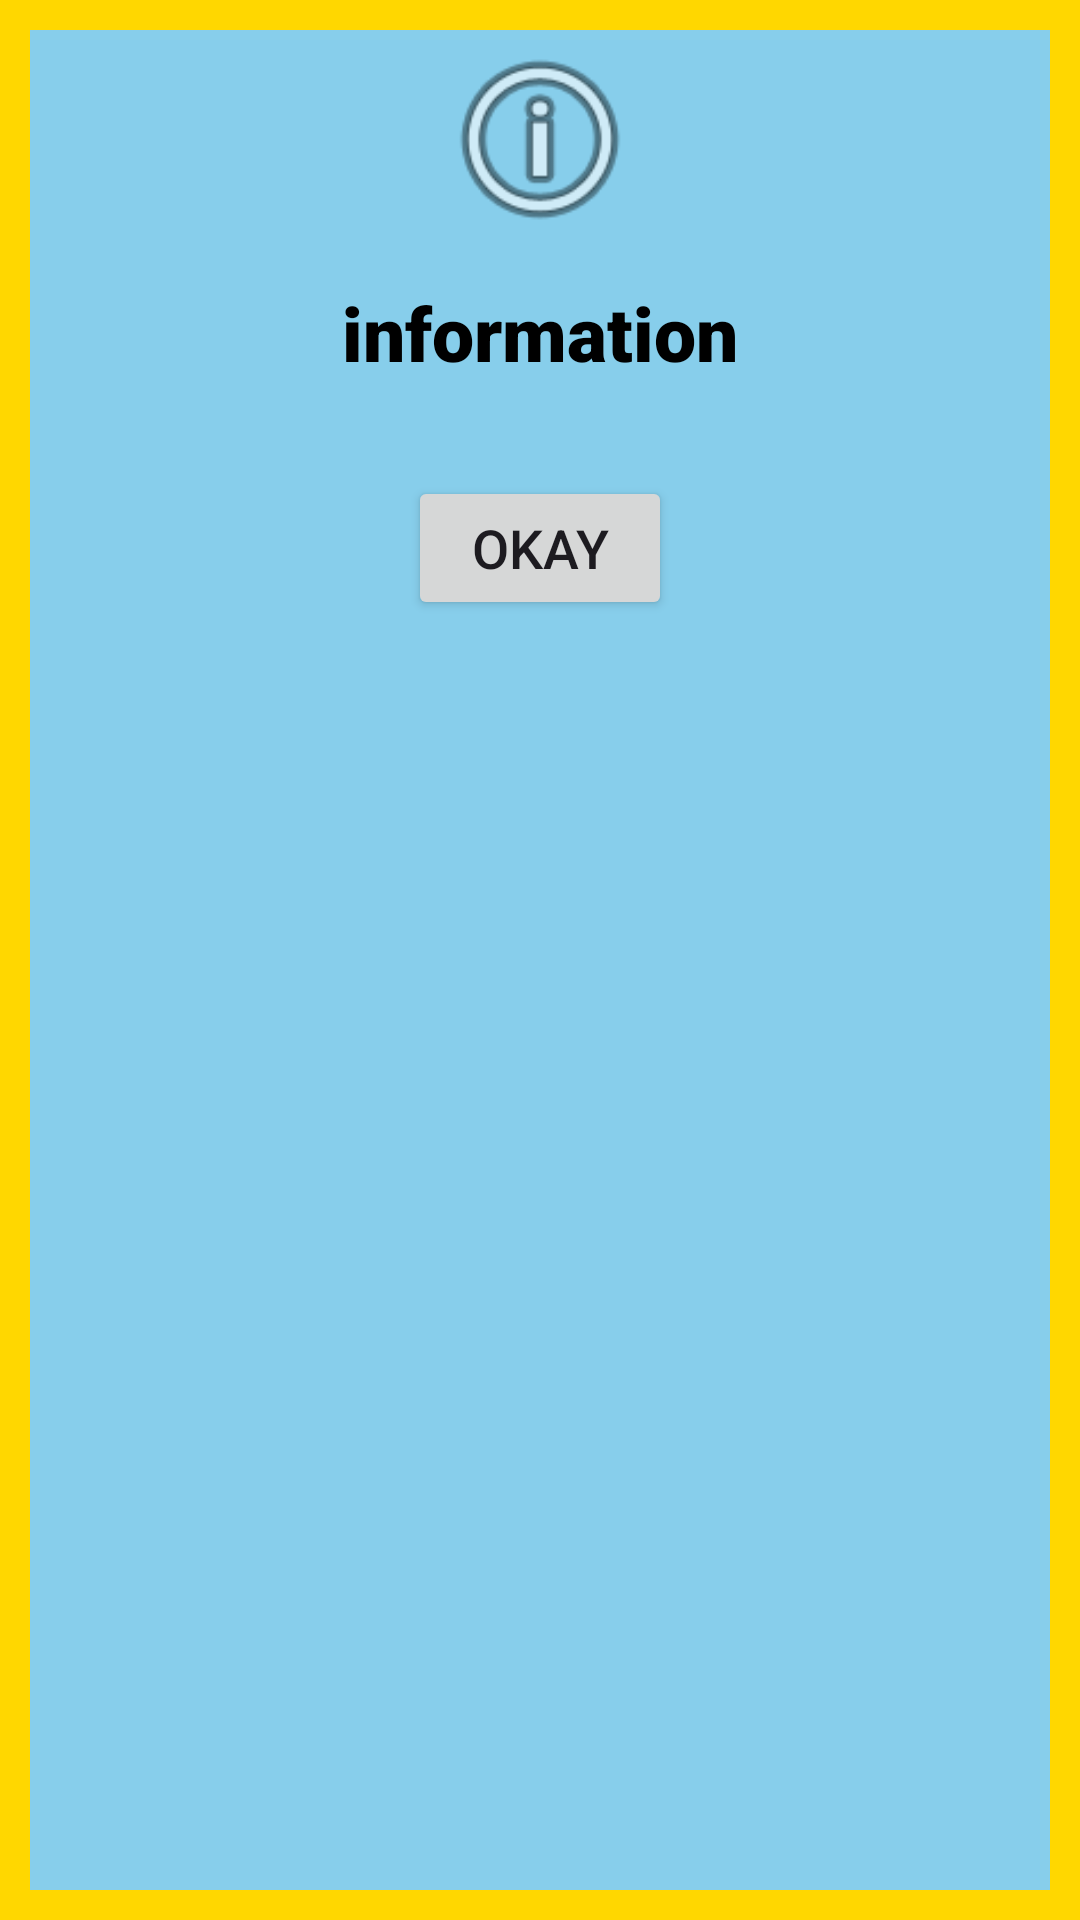

Icon bounding boxes for this 1080x1920 phone screenshot, format (x1, y1, x2, y2):
info details: (461, 61, 619, 219)
